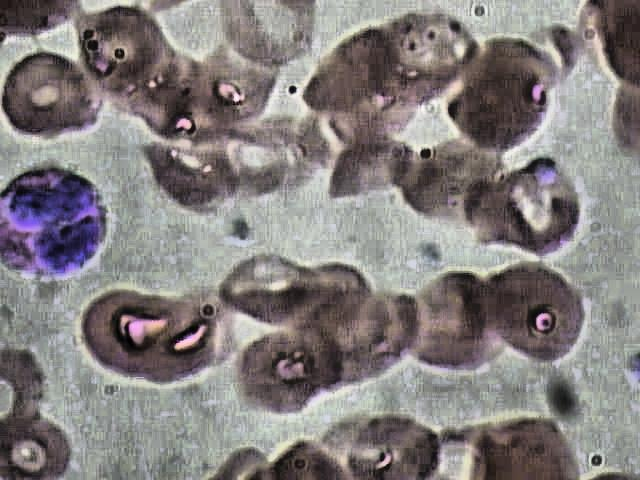Platelets: (532, 155, 558, 182)
RBC: (487, 262, 602, 374), (485, 151, 600, 263), (361, 11, 479, 115), (1, 44, 107, 157), (399, 267, 506, 373), (447, 64, 549, 158), (229, 330, 331, 424), (185, 40, 288, 128), (76, 289, 179, 377), (323, 130, 425, 207), (142, 139, 244, 216), (221, 255, 323, 332), (340, 403, 442, 479), (227, 127, 302, 199), (1, 415, 77, 479)
WBC: (1, 164, 121, 281)
